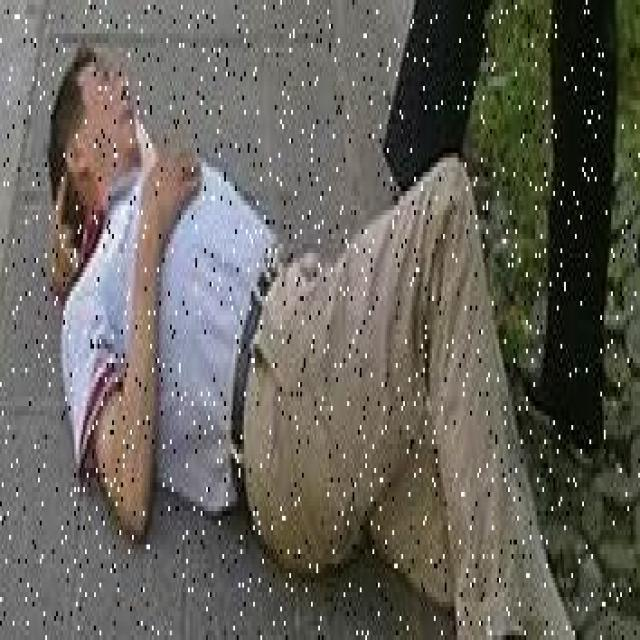fall: (38, 24, 591, 636)
